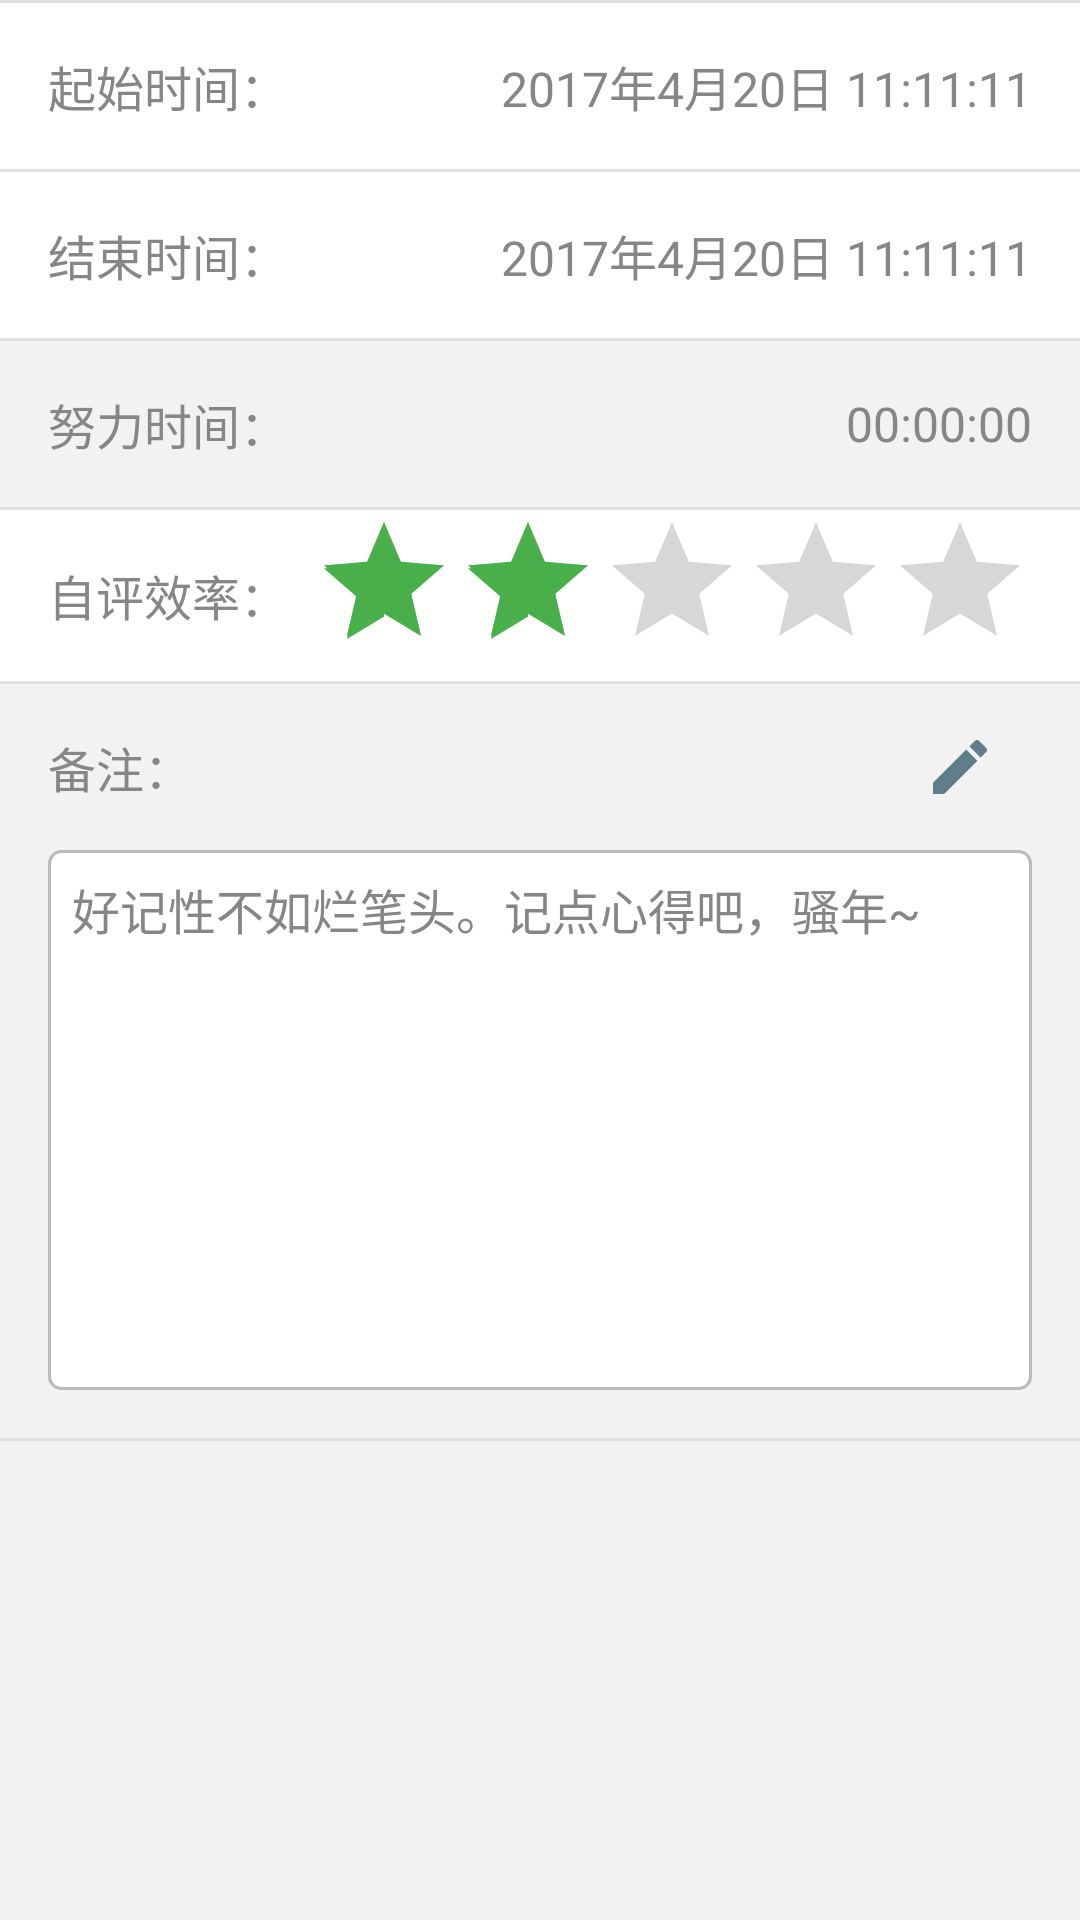

Named icons in this screenshot (1080 x 1920) and their centers, point (x, y):
edit: point (960, 767)
